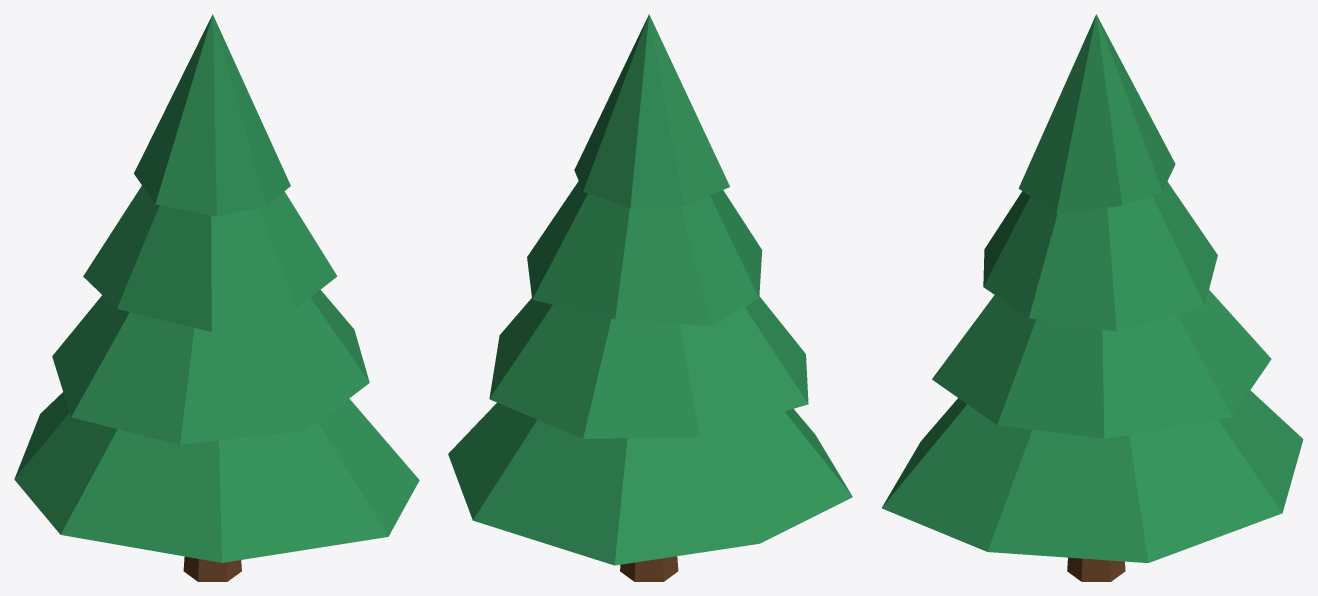
The model's file is Tree_Pine.glb.
3 renders of one model, left to right at view 1: azimuth 30°, elevation 25°; view 2: azimuth 150°, elevation 25°; view 3: azimuth 270°, elevation 25°, orthographic.
Visible parts, largest first — view 1: Tree_Pine_Leaves, Tree_Pine_Trunk; view 2: Tree_Pine_Leaves, Tree_Pine_Trunk; view 3: Tree_Pine_Leaves, Tree_Pine_Trunk.
Boxes of the visible parts, box(x1,y1,x2,y2) form: Tree_Pine_Leaves: box(14, 14, 419, 562); Tree_Pine_Trunk: box(183, 556, 241, 581); Tree_Pine_Leaves: box(448, 14, 852, 565); Tree_Pine_Trunk: box(620, 556, 678, 581); Tree_Pine_Leaves: box(882, 14, 1303, 562); Tree_Pine_Trunk: box(1067, 557, 1125, 581).
Bounding box in the file's own units: 3.35 × 5.05 × 3.47.
1 material, 1 textured.
